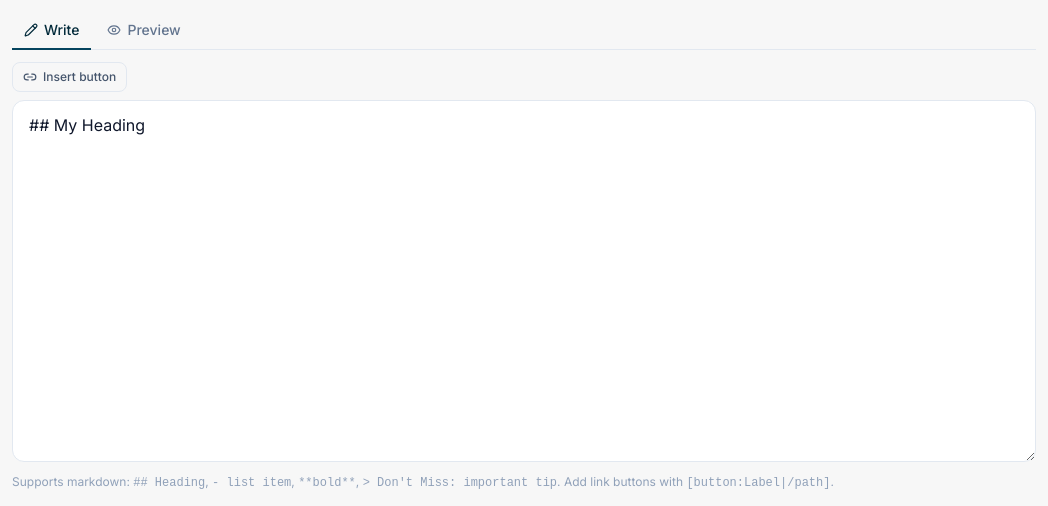
Test: BlogContentEditor › switches to preview mode and renders markdown as HTML
This screenshot has width=1048, height=506.
Click the button "Preview" at {"x": 144, "y": 31}, box [96, 12, 193, 50]
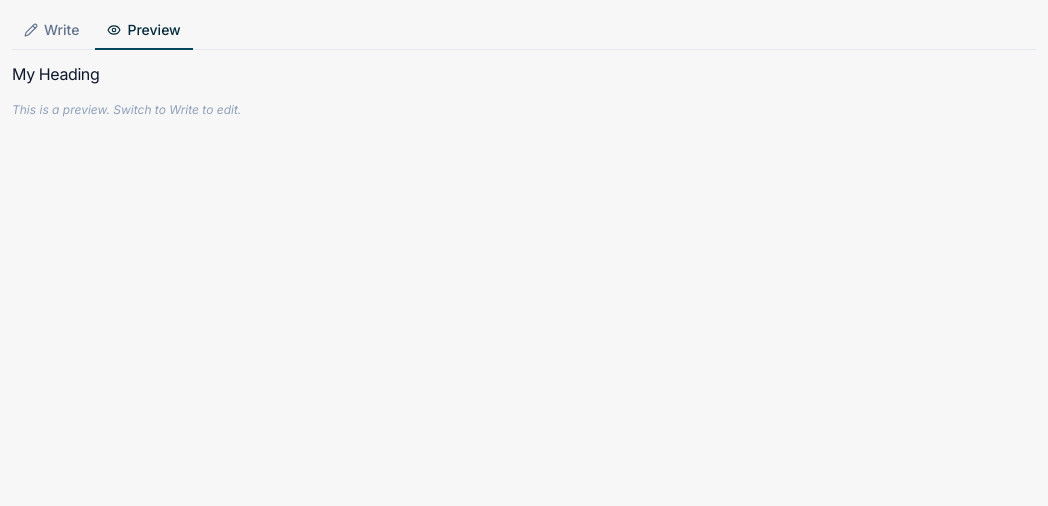
Result: the heading "My Heading" is shown at [12, 64, 99, 84]
